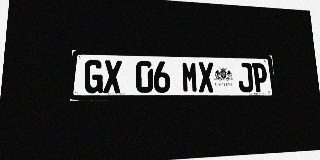0: (136, 61, 153, 93)
6: (153, 61, 170, 93)
G: (84, 60, 103, 93)
J: (237, 63, 254, 92)
M: (181, 62, 198, 93)
P: (252, 63, 268, 92)
X: (103, 60, 122, 93), (198, 62, 214, 93)
